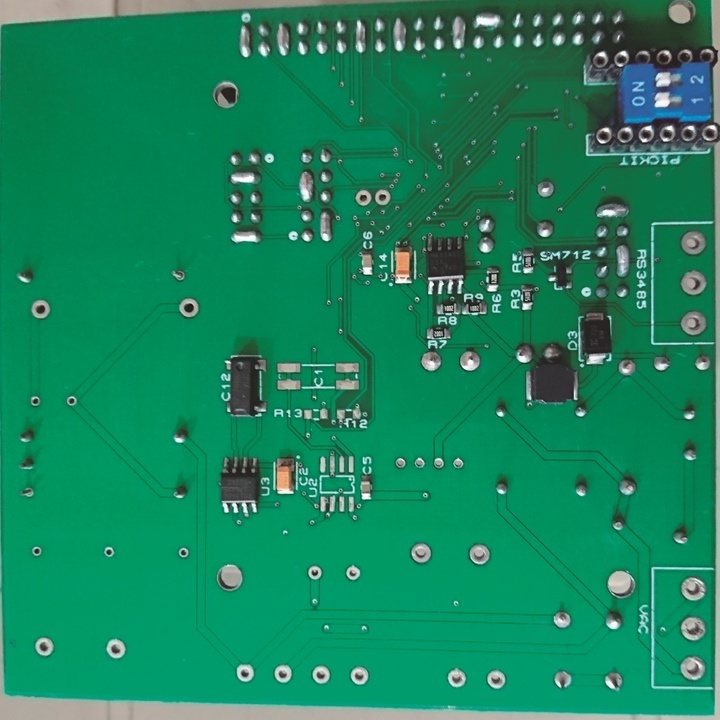F: (677, 613, 708, 643), (679, 228, 709, 258), (678, 653, 707, 683), (678, 575, 708, 603), (679, 269, 707, 297), (678, 311, 707, 338), (418, 349, 447, 375), (410, 538, 434, 569), (457, 346, 481, 375), (29, 296, 53, 323), (481, 668, 508, 692), (467, 543, 492, 568), (550, 668, 575, 693), (176, 297, 201, 321), (445, 666, 469, 690), (104, 637, 127, 662), (310, 663, 332, 688), (348, 663, 371, 686), (604, 669, 627, 692), (553, 607, 574, 632), (33, 635, 56, 657), (648, 352, 672, 373), (234, 661, 255, 684), (535, 178, 556, 200), (692, 351, 713, 373), (616, 355, 636, 378), (273, 663, 293, 686), (373, 187, 391, 208), (354, 187, 373, 206), (344, 563, 362, 581), (307, 565, 324, 582), (450, 455, 466, 473), (432, 455, 447, 474), (27, 393, 44, 409), (412, 455, 427, 472), (169, 268, 186, 283), (393, 454, 407, 472), (101, 545, 116, 561), (19, 485, 36, 499), (176, 546, 190, 561), (30, 546, 44, 560), (66, 392, 76, 409)
P: (590, 201, 633, 220), (296, 166, 315, 208), (613, 243, 633, 279), (470, 10, 504, 31), (352, 16, 369, 57), (227, 168, 263, 187), (449, 14, 467, 51), (236, 21, 253, 60), (391, 15, 408, 54), (274, 20, 291, 58), (230, 229, 265, 246), (318, 209, 333, 243)
